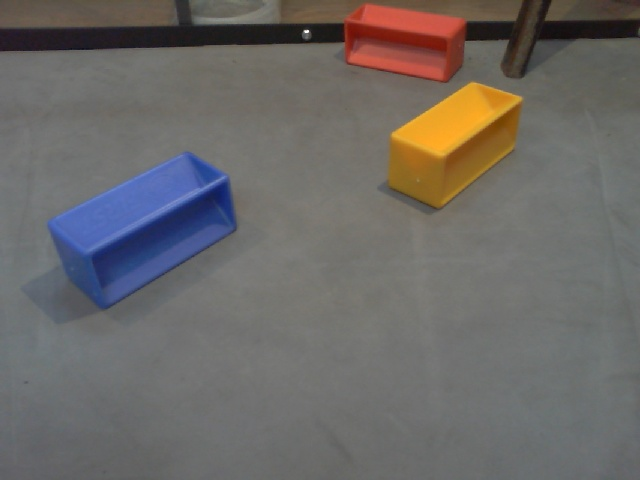BlueSample: (42, 145, 240, 316)
RedSample: (336, 1, 466, 83)
YellowSample: (383, 80, 524, 212)
